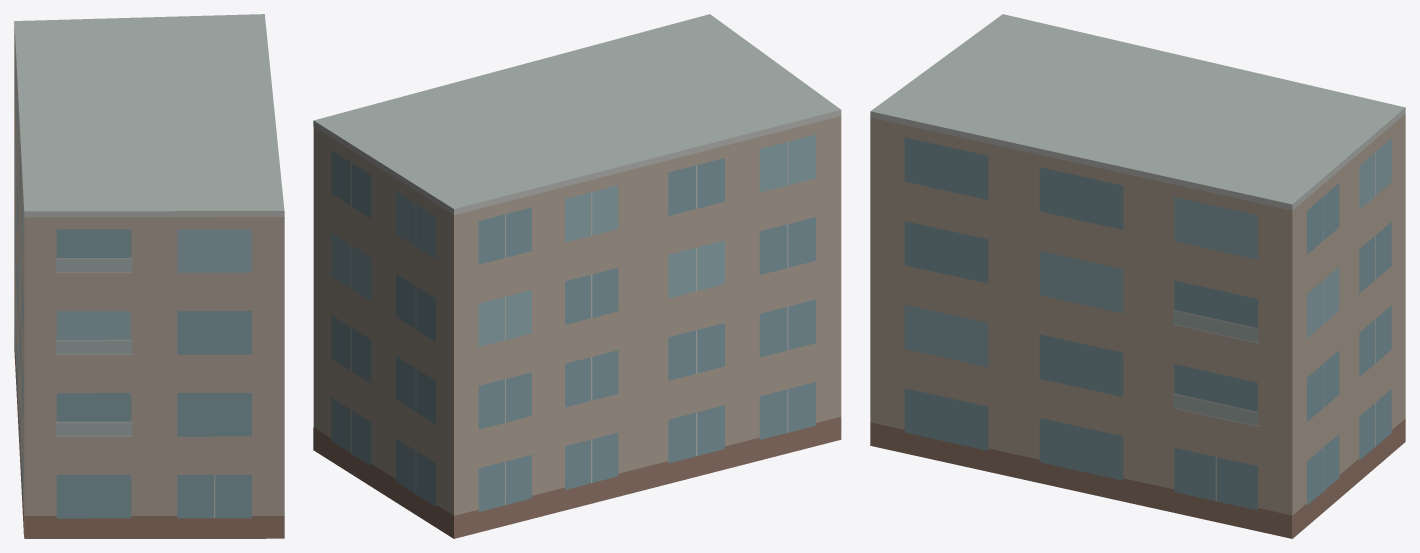
Rendered from survey-upis-32628719.glb.
The picture shows the model from 3 angles, left to right: view 1: azimuth 30°, elevation 25°; view 2: azimuth 150°, elevation 25°; view 3: azimuth 270°, elevation 25°; orthographic projection. The views are drawn at different scales.
Visible parts, largest first — view 1: survey-upis-32628719.tmp; view 2: survey-upis-32628719.tmp; view 3: survey-upis-32628719.tmp.
Boxes of the visible parts, x1,y1,x2,y2 form: survey-upis-32628719.tmp: (14, 14, 284, 538); survey-upis-32628719.tmp: (313, 14, 841, 538); survey-upis-32628719.tmp: (870, 14, 1405, 538).
Bounding box in the file's own units: 16.14 × 13.2 × 19.16.
